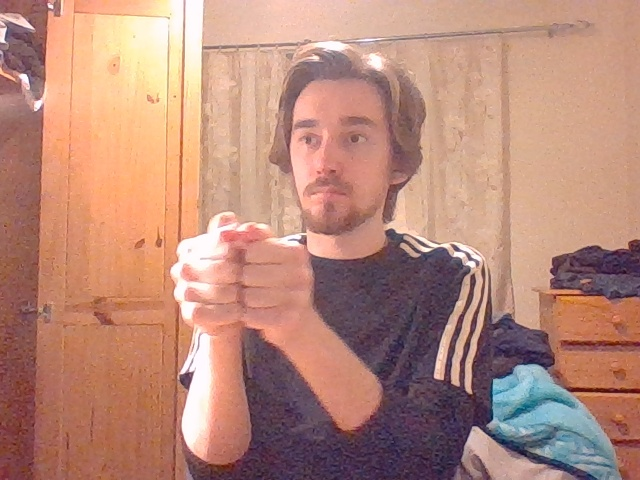brother: (169, 211, 313, 333)
